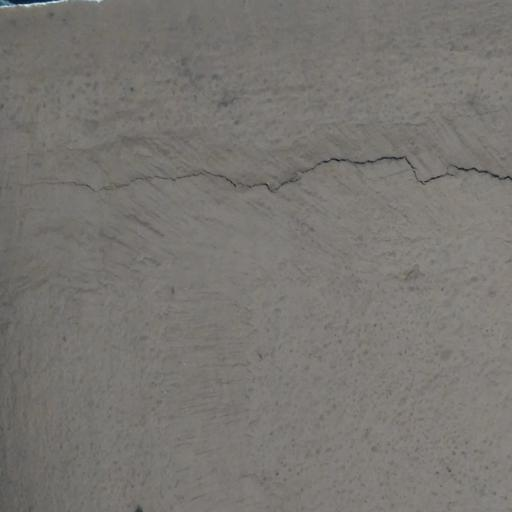minor_crack: (20, 132, 512, 232)
